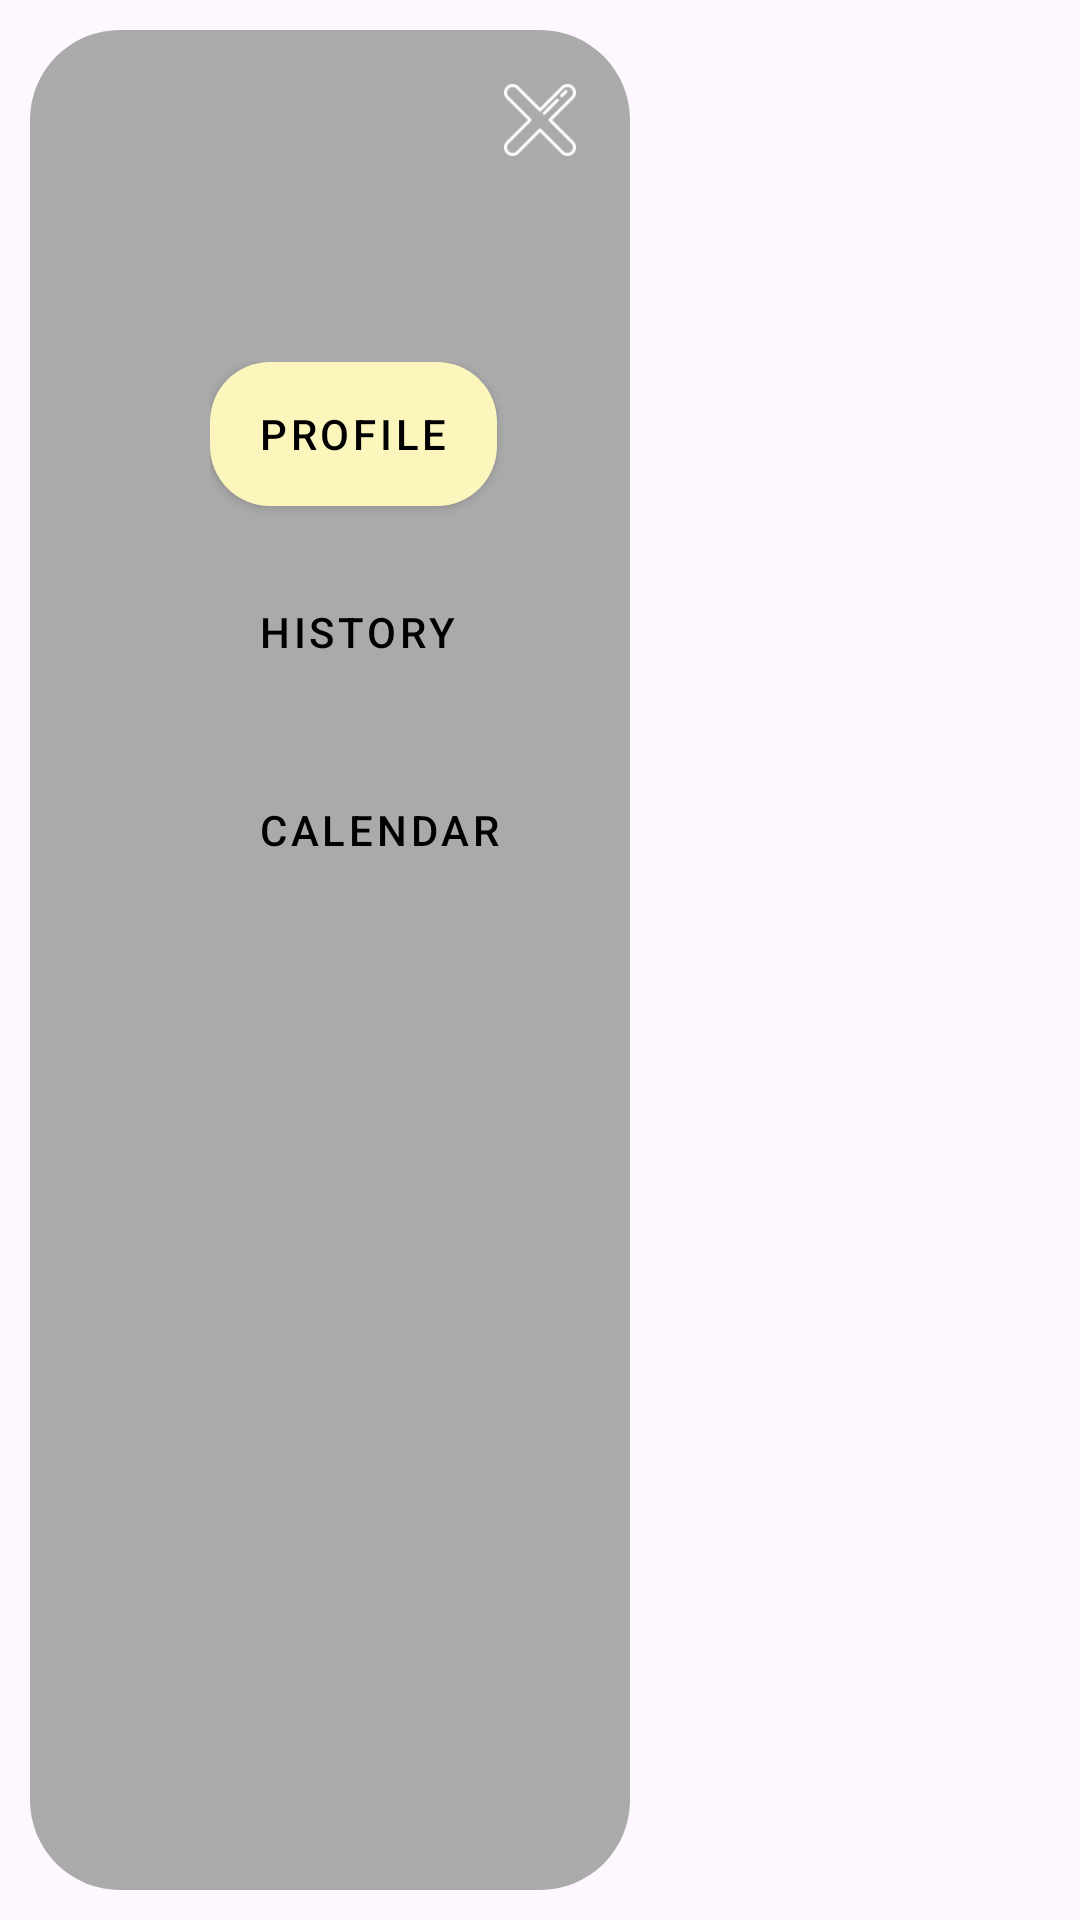

Where to tap for icons on this 1080 x 1920 app screen, as [x,y]:
close: [540,120]
